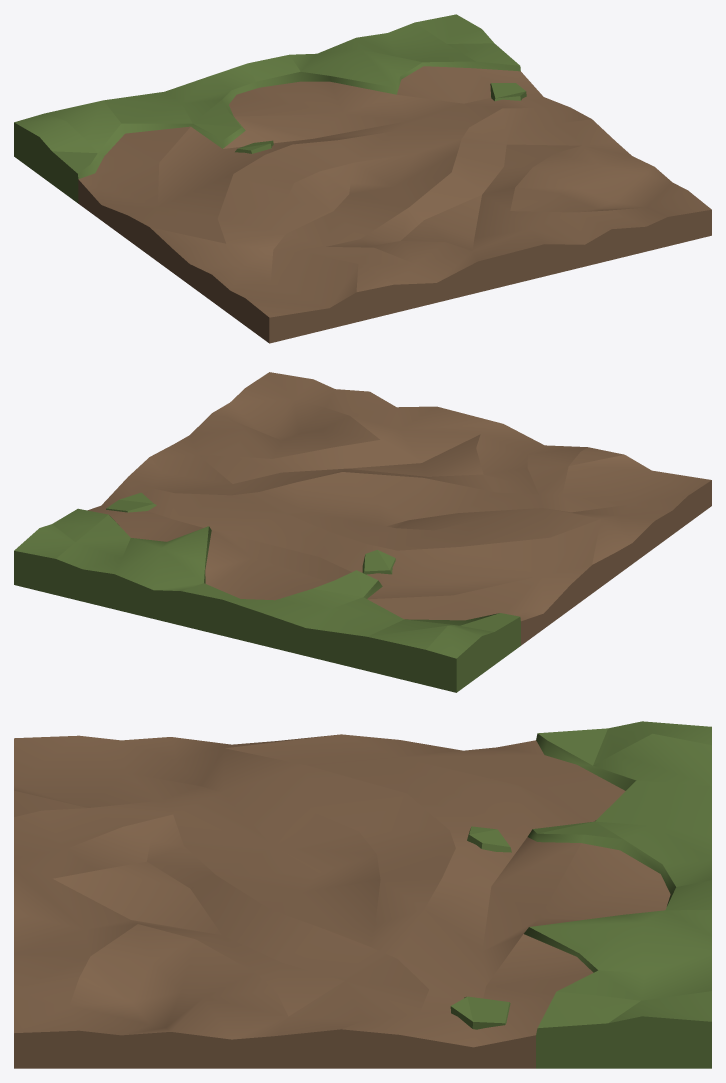
Rendered from Ground_Edge_U.glb.
3 renders of one model, top to bottom at view 1: azimuth 30°, elevation 25°; view 2: azimuth 150°, elevation 25°; view 3: azimuth 270°, elevation 25°, orthographic. The views are drawn at different scales.
Visible parts, largest first — view 1: Ground_Edge_U; view 2: Ground_Edge_U; view 3: Ground_Edge_U.
Part boxes in pixels (x1,y1,x2,y2): Ground_Edge_U: (14,14,711,343); Ground_Edge_U: (14,372,711,692); Ground_Edge_U: (14,721,711,1068).
Bounding box in the file's own units: 1.47 × 0.1508 × 1.47.
